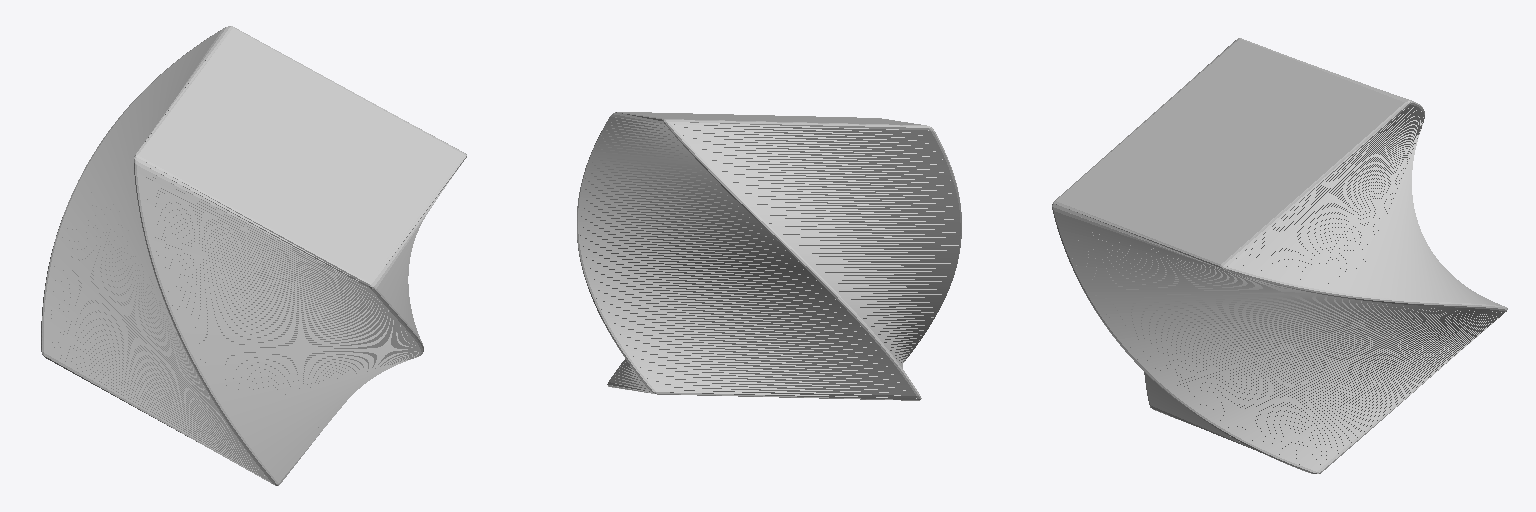
The model's file is refraction_spiral.obj.
3 views of the same model, side by side, from view 1: azimuth 30°, elevation 25°; view 2: azimuth 150°, elevation 25°; view 3: azimuth 270°, elevation 25° (orthographic).
Parts seen in each view (by area): view 1: Cube; view 2: Cube; view 3: Cube.
Part boxes in pixels (x1,y1,x2,y2): Cube: (41,26,466,485); Cube: (577,112,961,400); Cube: (1052,38,1507,473).
Size of the model in its own units: 0.8451 by 0.7635 by 0.9089.